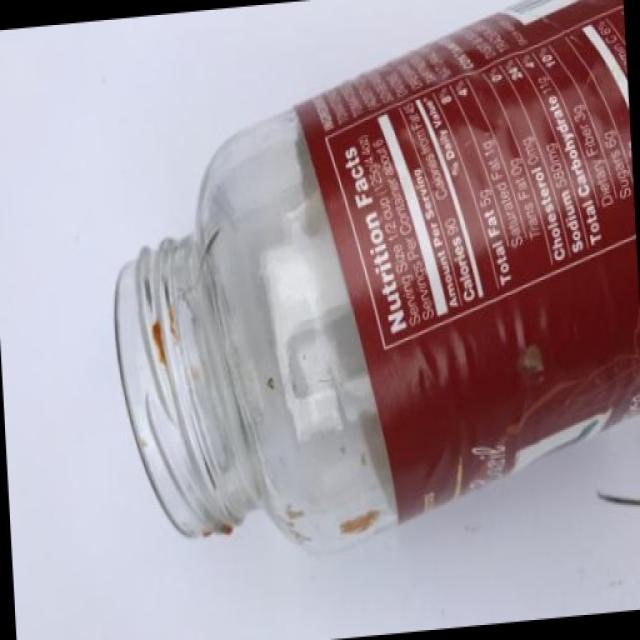vidrio: (75, 12, 640, 586)
